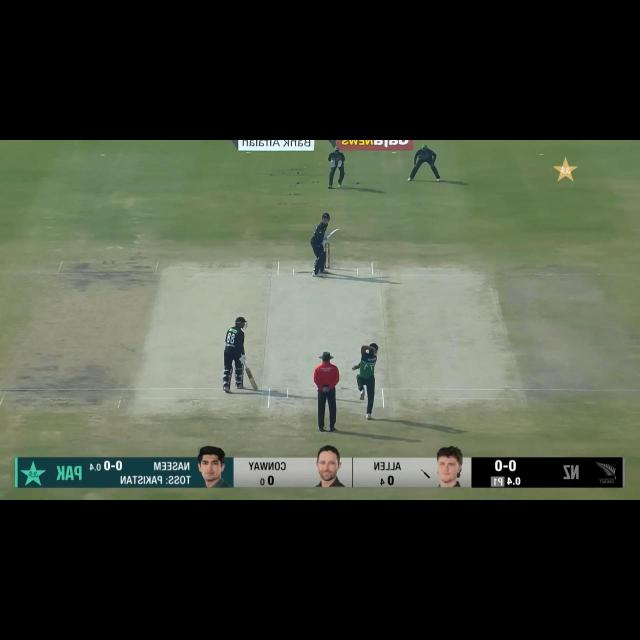bat: (244, 366, 258, 391), (326, 228, 339, 239)
toe: (251, 384, 258, 391), (334, 228, 340, 232)
